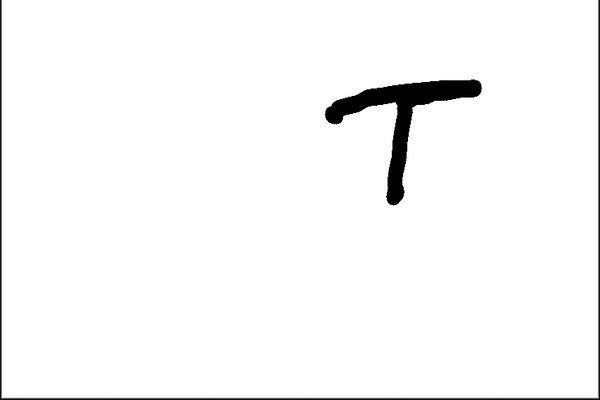T: (318, 66, 485, 206)
